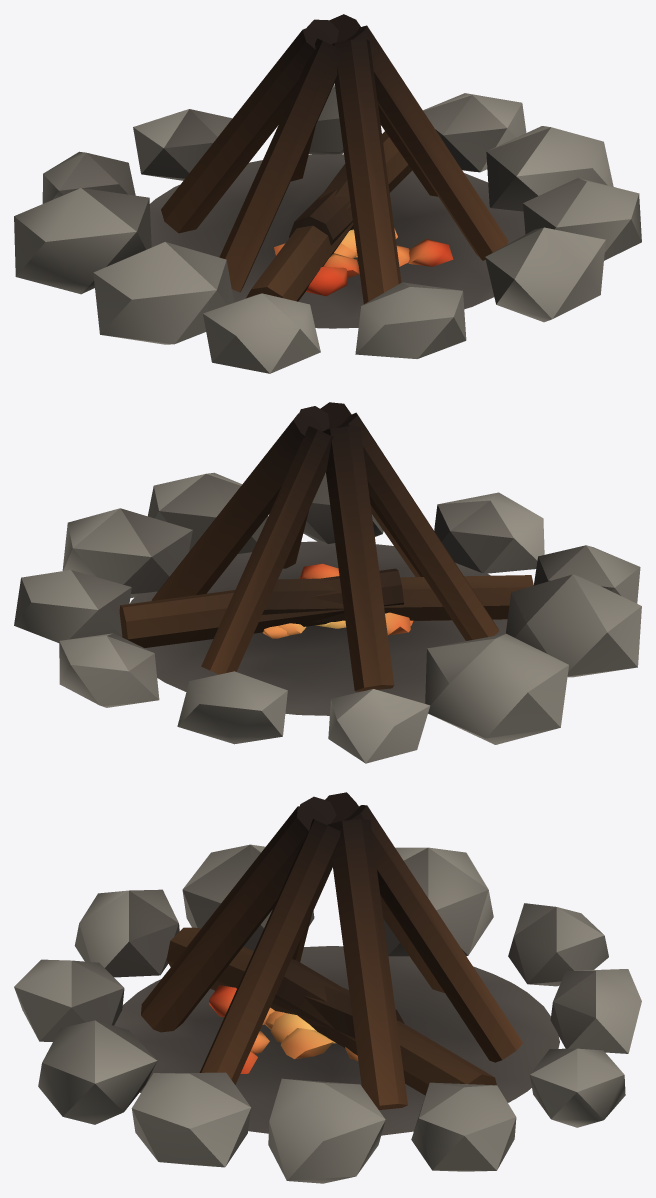
File: campfire.glb
3 renders of one model, top to bottom at view 1: azimuth 30°, elevation 25°; view 2: azimuth 150°, elevation 25°; view 3: azimuth 270°, elevation 25°, orthographic. The views are drawn at different scales.
Parts seen in each view (by area): view 1: campfire, campfire_embers; view 2: campfire, campfire_embers; view 3: campfire, campfire_embers.
Boxes of the visible parts, x1,y1,x2,y2 form: campfire: [14, 14, 641, 373]; campfire_embers: [274, 228, 453, 296]; campfire: [14, 402, 641, 763]; campfire_embers: [262, 563, 413, 638]; campfire: [14, 792, 641, 1183]; campfire_embers: [209, 985, 358, 1073].
Bounding box in the file's own units: 2.12 × 0.9227 × 1.93.
